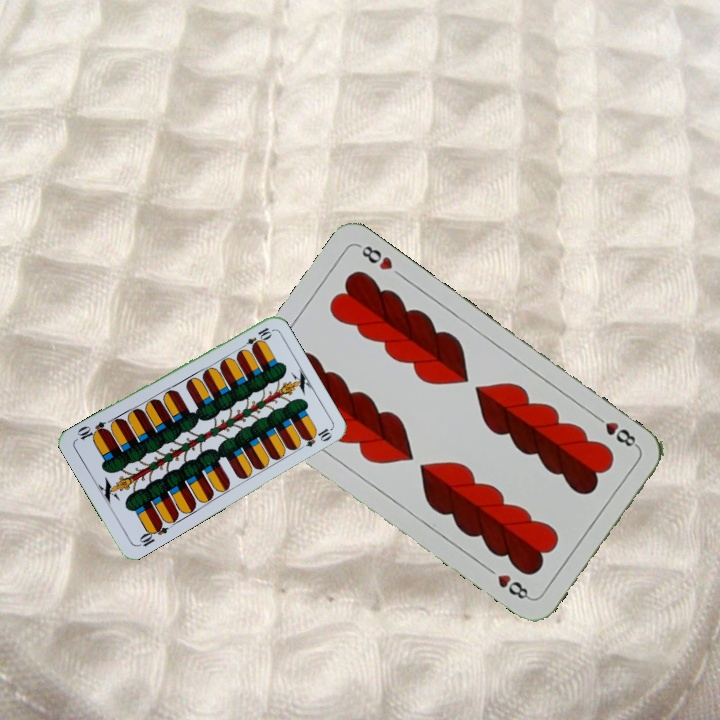E10: (134, 518, 171, 549), (236, 323, 274, 353)
H8: (590, 410, 641, 451)
